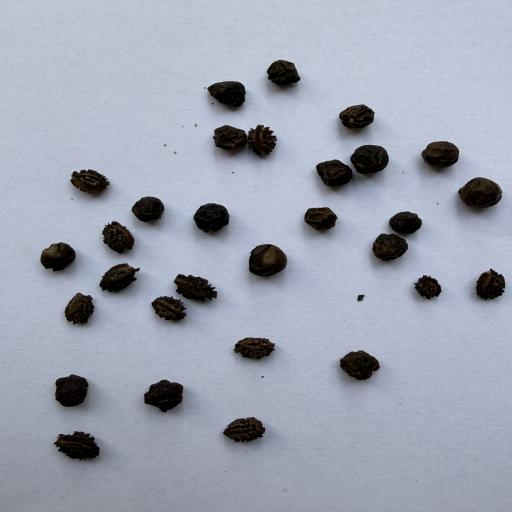Black_pepper: (458, 175, 503, 211), (244, 243, 289, 278), (338, 349, 382, 381), (350, 143, 391, 175), (52, 374, 90, 408), (144, 380, 184, 412), (208, 78, 248, 108), (421, 138, 461, 168), (314, 158, 354, 188), (192, 201, 229, 233), (39, 241, 76, 273), (263, 58, 302, 88), (210, 124, 247, 152), (374, 233, 408, 263), (301, 206, 339, 230), (340, 104, 374, 130), (130, 197, 164, 222), (388, 210, 422, 235)
papaya_seed: (207, 404, 272, 448), (42, 431, 119, 464), (453, 264, 512, 307), (62, 158, 117, 201), (58, 289, 104, 335), (222, 336, 292, 364), (243, 125, 292, 163), (169, 270, 227, 302), (406, 268, 454, 304), (96, 217, 135, 256), (147, 294, 190, 326), (100, 260, 142, 292)
